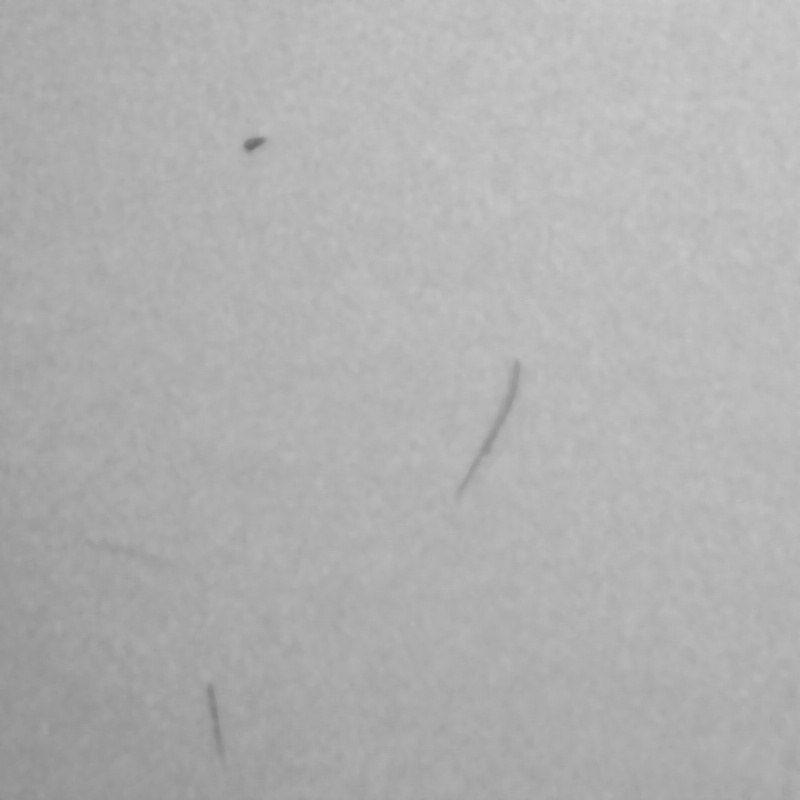defect: (448, 356, 524, 503), (199, 676, 229, 767), (239, 131, 270, 157)
